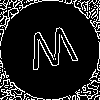W: (25, 25, 81, 80)
